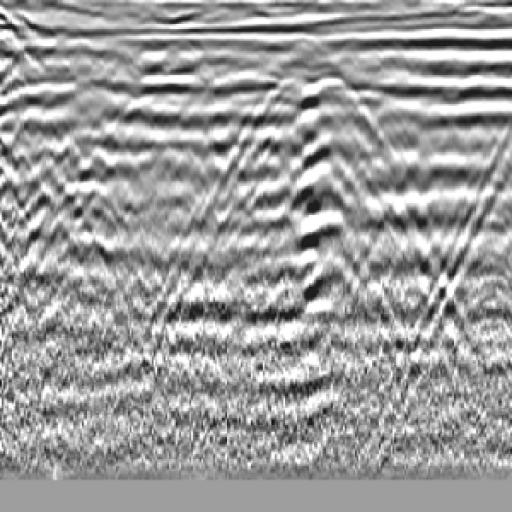metalic: (245, 55, 384, 170)
